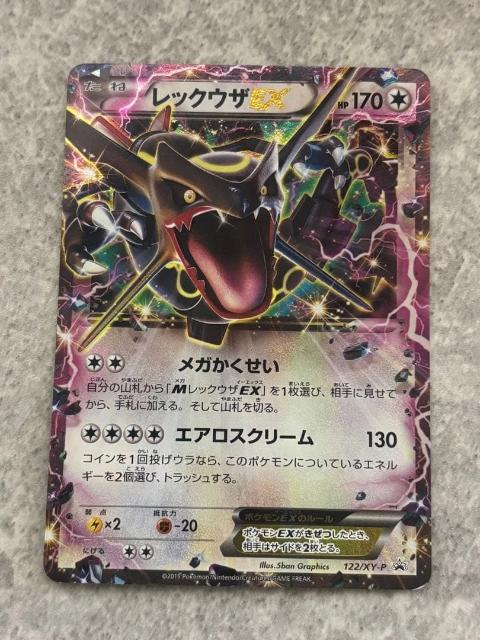Card: (35, 60, 437, 595)
Name: (149, 83, 294, 117)
